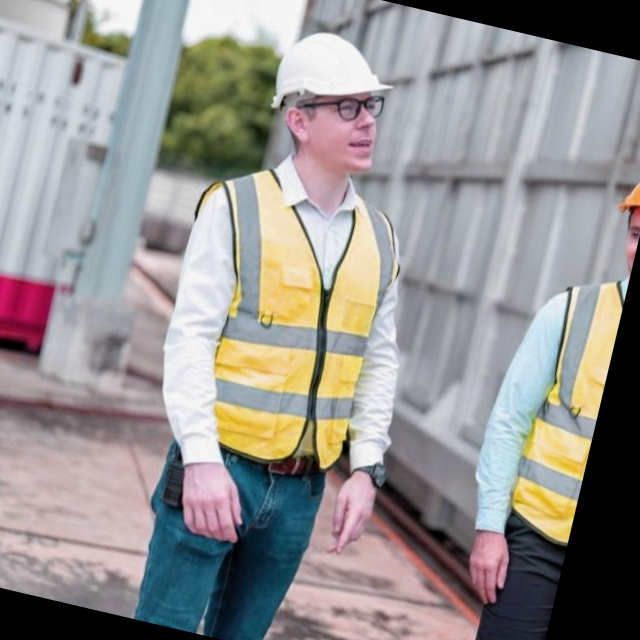Con_Casco: (254, 22, 407, 186)
Con_Chaleco: (139, 159, 416, 484)
